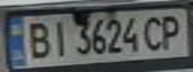2: (106, 15, 124, 55)
3: (69, 16, 93, 56)
4: (121, 14, 145, 54)
6: (90, 15, 109, 56)
B: (21, 18, 54, 61)
C: (139, 12, 166, 52)
I: (48, 17, 72, 57)
P: (157, 11, 187, 52)
